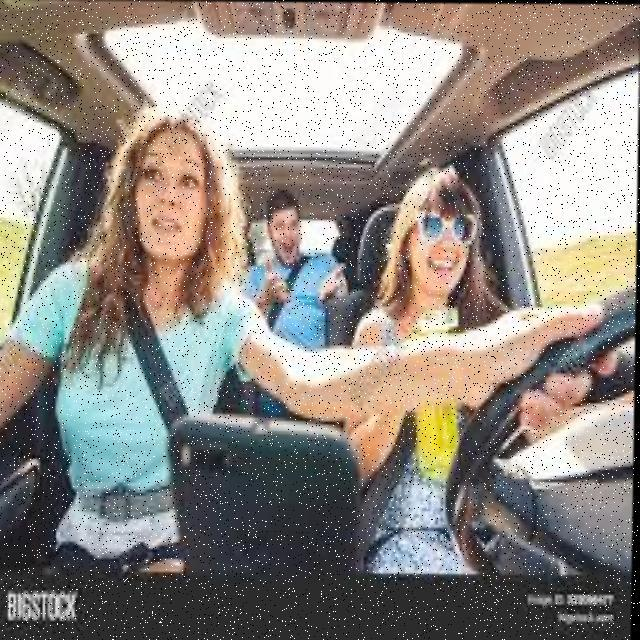seatbelt: (43, 224, 257, 479), (238, 233, 347, 349)
